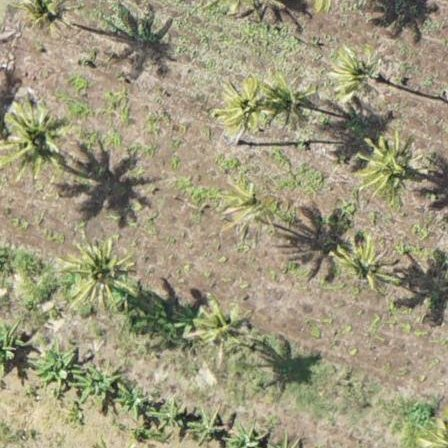palm_tree: (1, 97, 75, 174), (353, 133, 422, 207), (70, 237, 135, 307), (329, 231, 393, 299), (214, 71, 276, 137), (188, 299, 251, 358), (219, 179, 277, 239), (327, 44, 387, 101), (417, 409, 448, 448)
